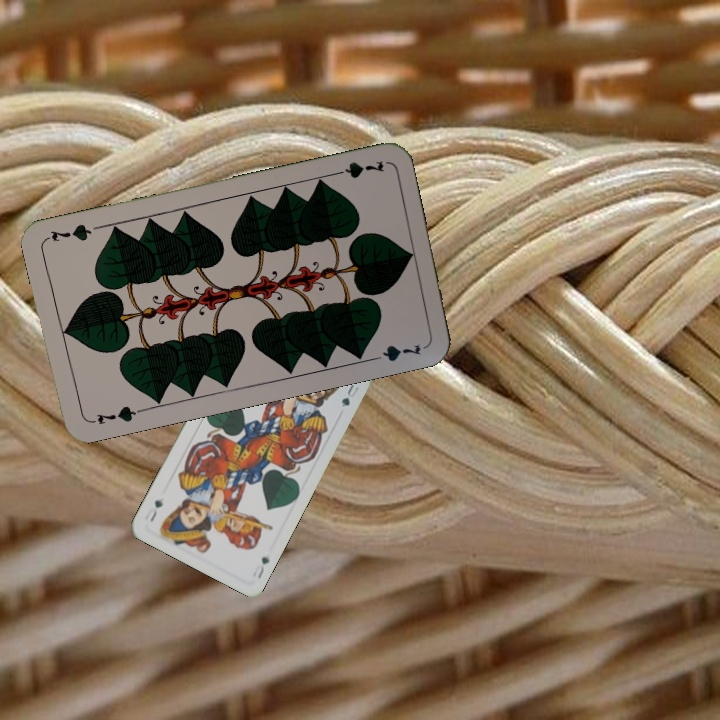G7: (86, 402, 144, 428), (328, 156, 387, 181)
GU: (252, 552, 272, 582)
